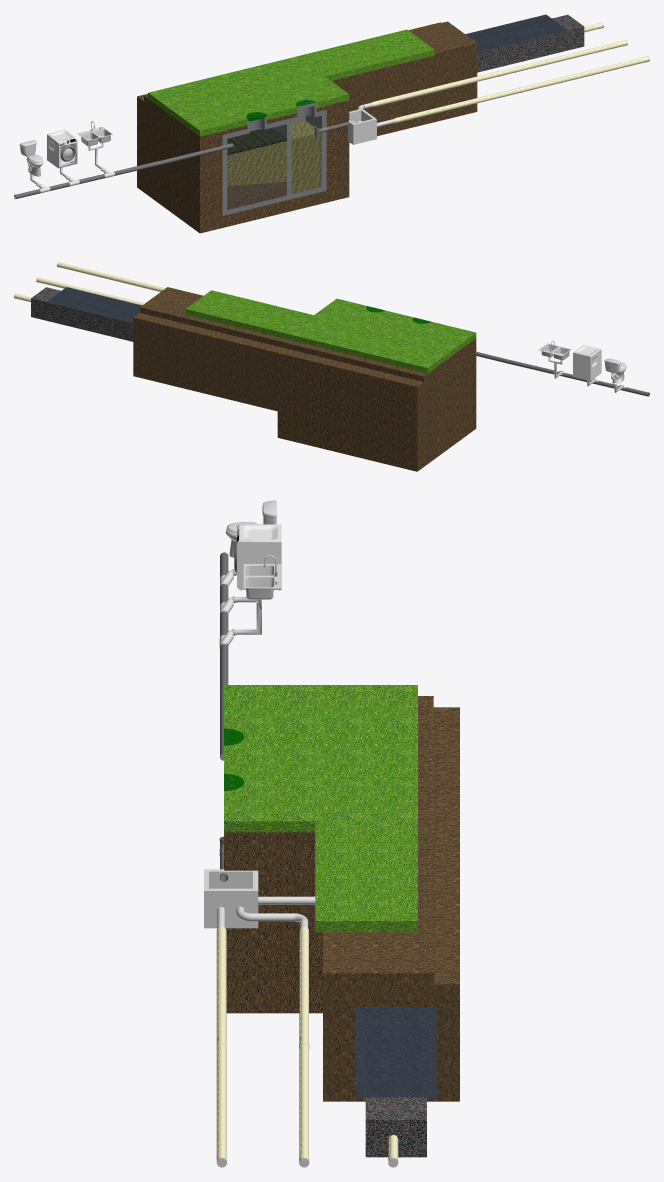
File: septic.optimized.glb
The picture shows the model from 3 angles, top to bottom: view 1: azimuth 30°, elevation 25°; view 2: azimuth 150°, elevation 25°; view 3: azimuth 270°, elevation 25°; orthographic projection. The views are drawn at different scales.
Visible parts, largest first — view 1: Septic tank, G-__555771, G-__555726, G-__555717, G-__555699, G-__555888, G-__555879, G-__555708, G-__555780, Maquina, G-__555762, G-__555618 (+9 smaller); view 2: Septic tank, G-__555726, G-__555771, G-__555717, G-__555699, G-__555762, G-__555708, Maquina, Component#8.001, Component#6, Component#8.002, G-__555969; view 3: G-__555771, G-__555726, Septic tank, G-__555717, G-__555708, G-__555699, G-__555762, G-__555618, Maquina, G-__555969, Component#4.002, Component#8.001 (+3 smaller).
Boxes of the visible parts, x1,y1,x2,y2 form: Septic tank: (137, 94, 349, 233); G-__555771: (148, 56, 349, 136); G-__555726: (331, 21, 477, 142); G-__555717: (297, 29, 434, 80); G-__555699: (477, 14, 584, 72); G-__555888: (291, 120, 321, 194); G-__555879: (222, 114, 326, 215); G-__555708: (465, 14, 567, 52); G-__555780: (227, 181, 286, 209); Maquina: (47, 129, 77, 168); G-__555762: (144, 94, 349, 142); G-__555618: (348, 108, 376, 144); Septic tank: (277, 344, 476, 471); G-__555726: (133, 287, 287, 411); G-__555771: (288, 298, 476, 373); G-__555717: (185, 290, 313, 339); G-__555699: (31, 287, 133, 341); G-__555762: (284, 338, 476, 381); G-__555708: (46, 287, 141, 322); Maquina: (573, 345, 601, 381); Component#8.001: (58, 262, 165, 291); Component#6: (513, 361, 649, 396); Component#8.002: (37, 277, 144, 305); G-__555969: (538, 340, 571, 360); G-__555771: (224, 685, 417, 832); G-__555726: (323, 832, 459, 1101); Septic tank: (220, 707, 459, 1013); G-__555717: (315, 821, 417, 932); G-__555708: (355, 1007, 437, 1097); G-__555699: (365, 1097, 426, 1157); G-__555762: (224, 696, 433, 843); G-__555618: (204, 869, 258, 928); Maquina: (234, 524, 281, 590); G-__555969: (243, 555, 281, 599); Component#4.002: (216, 926, 226, 1046); Component#8.001: (216, 1043, 226, 1163).
Bounding box in the file's own units: 20.2 × 3.84 × 3.79.
Materials: 22 (9 with a texture image).
